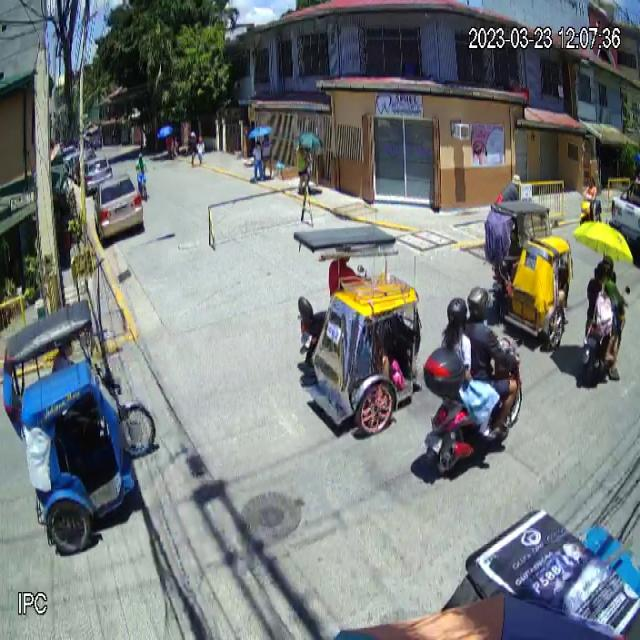Car: (93, 172, 145, 243)
Motorcycle: (422, 335, 522, 470)
Tricycle: (2, 298, 158, 555), (293, 221, 424, 443), (486, 200, 576, 350)
